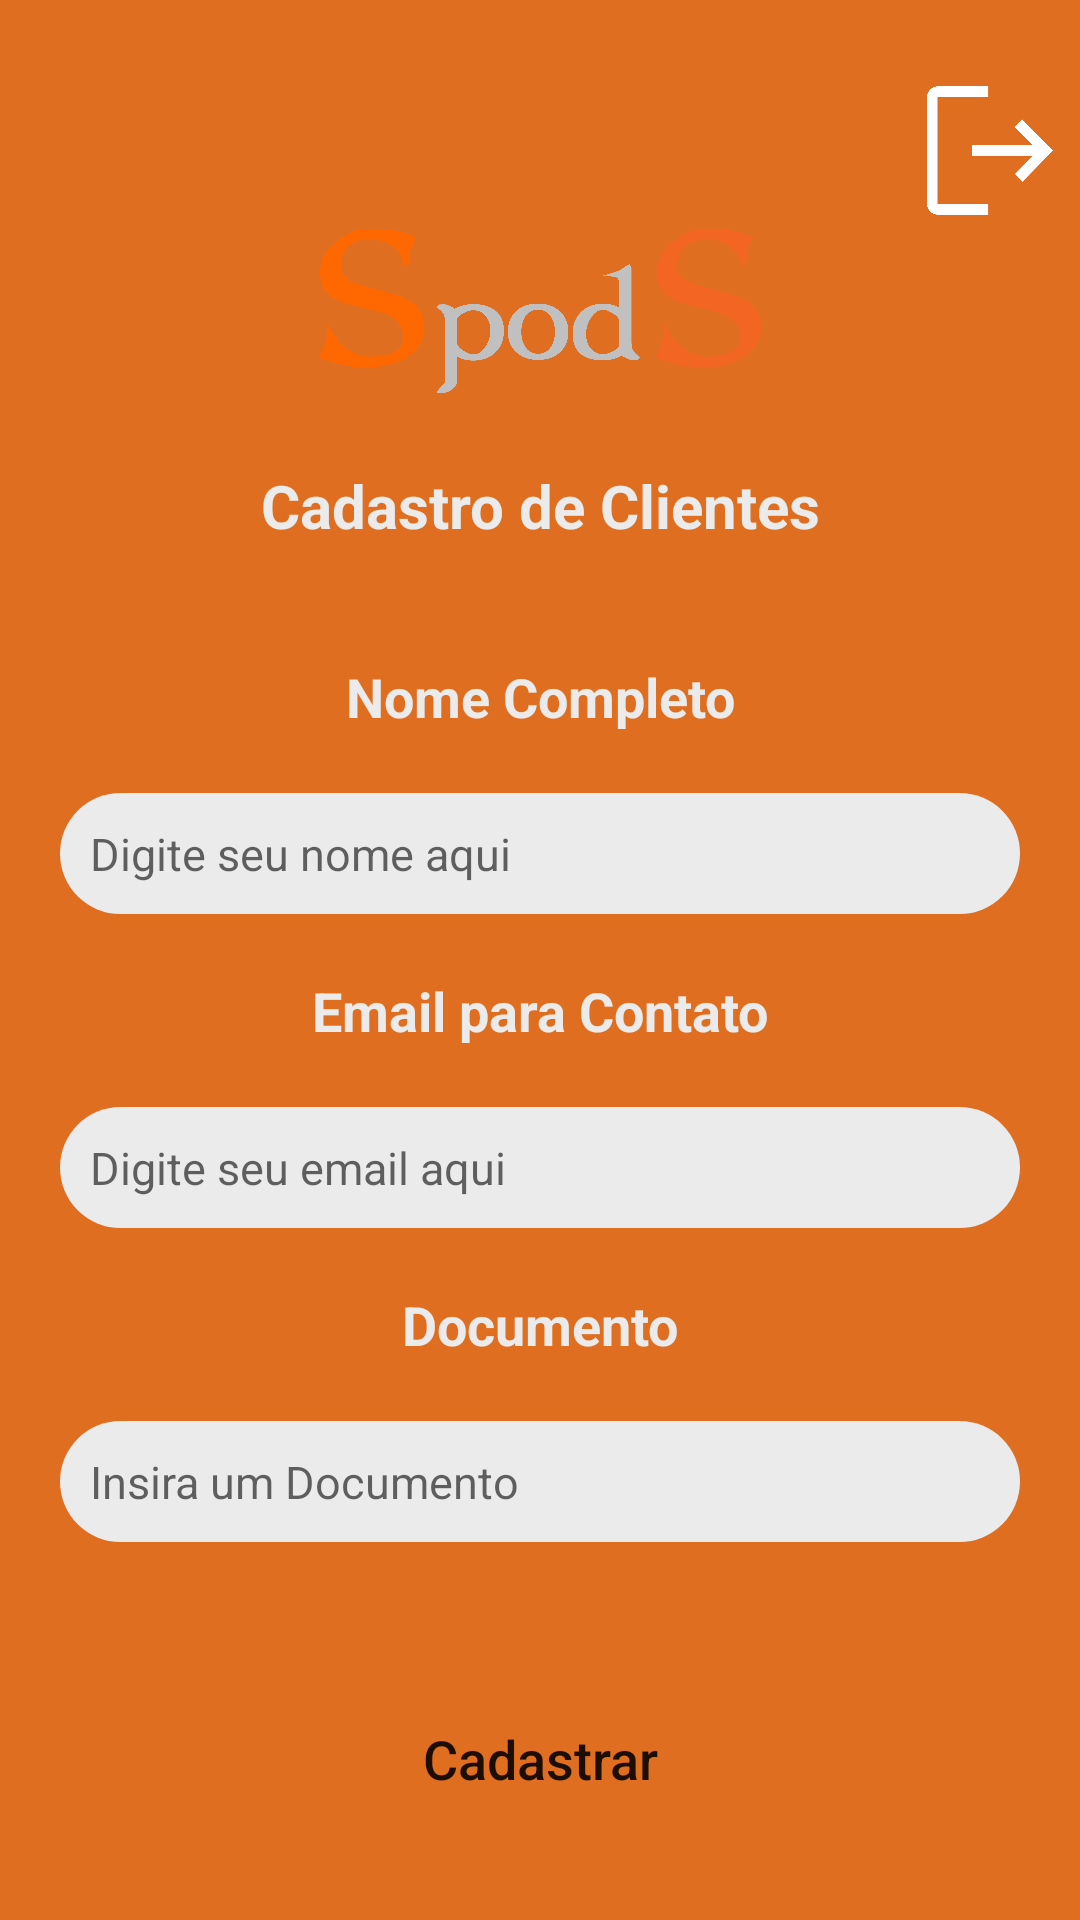

Icon click points for this 1080x1920 phone screenshot, format [x,y]:
exit: [990,150]
